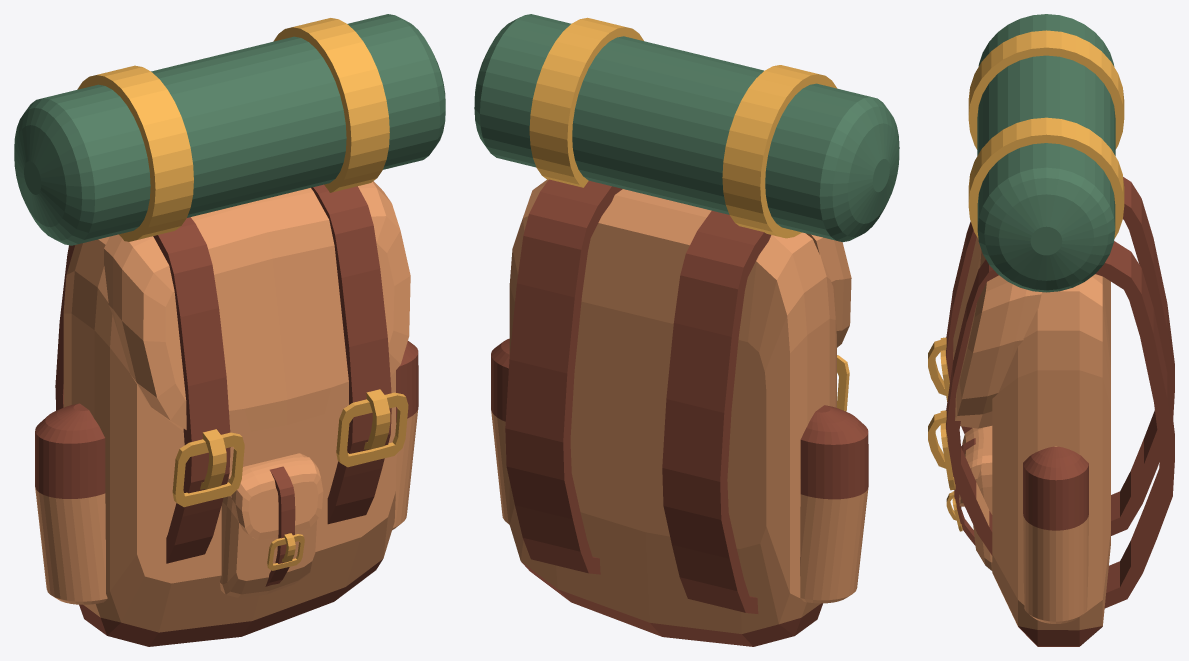
File: Mochila KKJ.fbx
3 renders of one model, left to right at view 1: azimuth 30°, elevation 25°; view 2: azimuth 150°, elevation 25°; view 3: azimuth 270°, elevation 25°, orthographic. The views are drawn at different scales.
Parts seen in each view (by area): view 1: Mochila; view 2: Mochila; view 3: Mochila.
Part boxes in pixels (x1=…): Mochila: x1=14, y1=14, x2=445, y2=646; Mochila: x1=474, y1=14, x2=899, y2=646; Mochila: x1=928, y1=14, x2=1174, y2=646.
Bounding box in the file's own units: 57.52 × 81.12 × 34.16.
